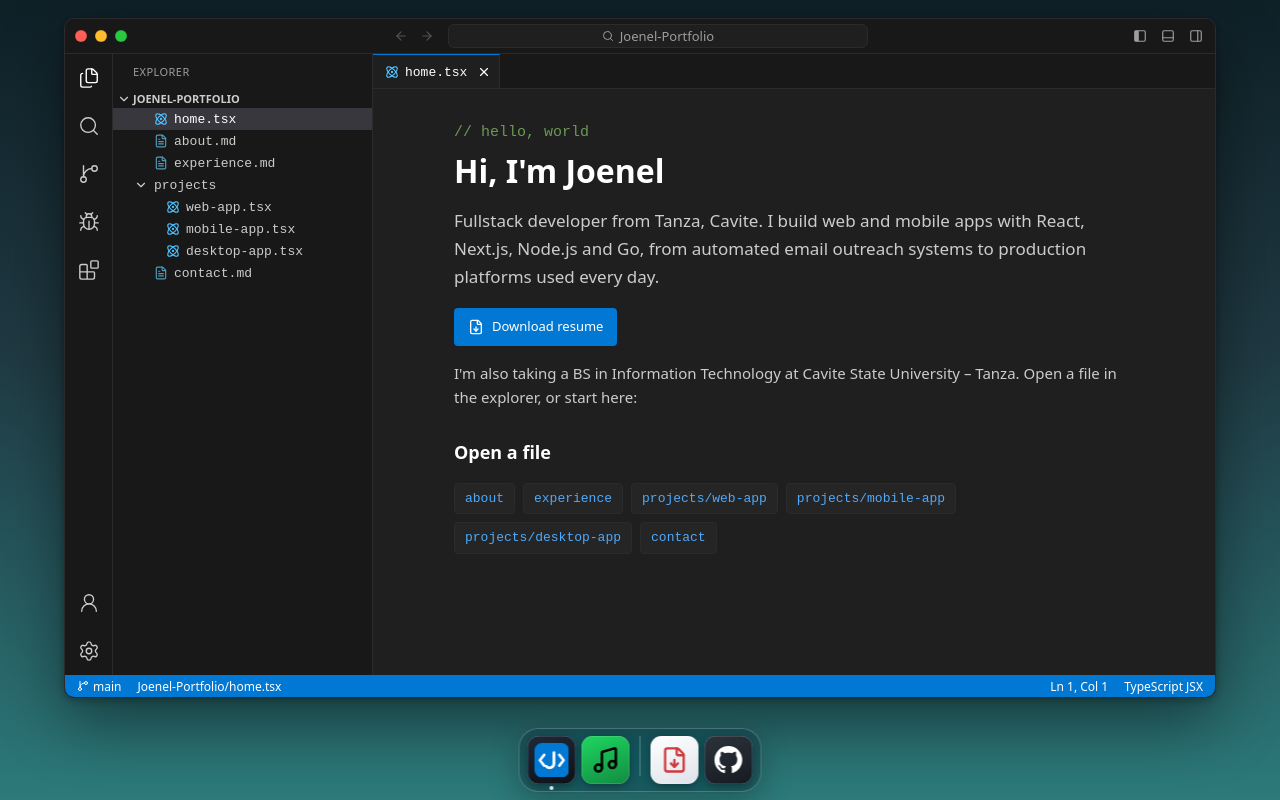
Test: EditorWindow (desktop) › clicking a file opens it in a tab and main area
This screenshot has width=1280, height=800.
Step 1. Click the list item "about.md" → (195,141), box [154,134,236,148]
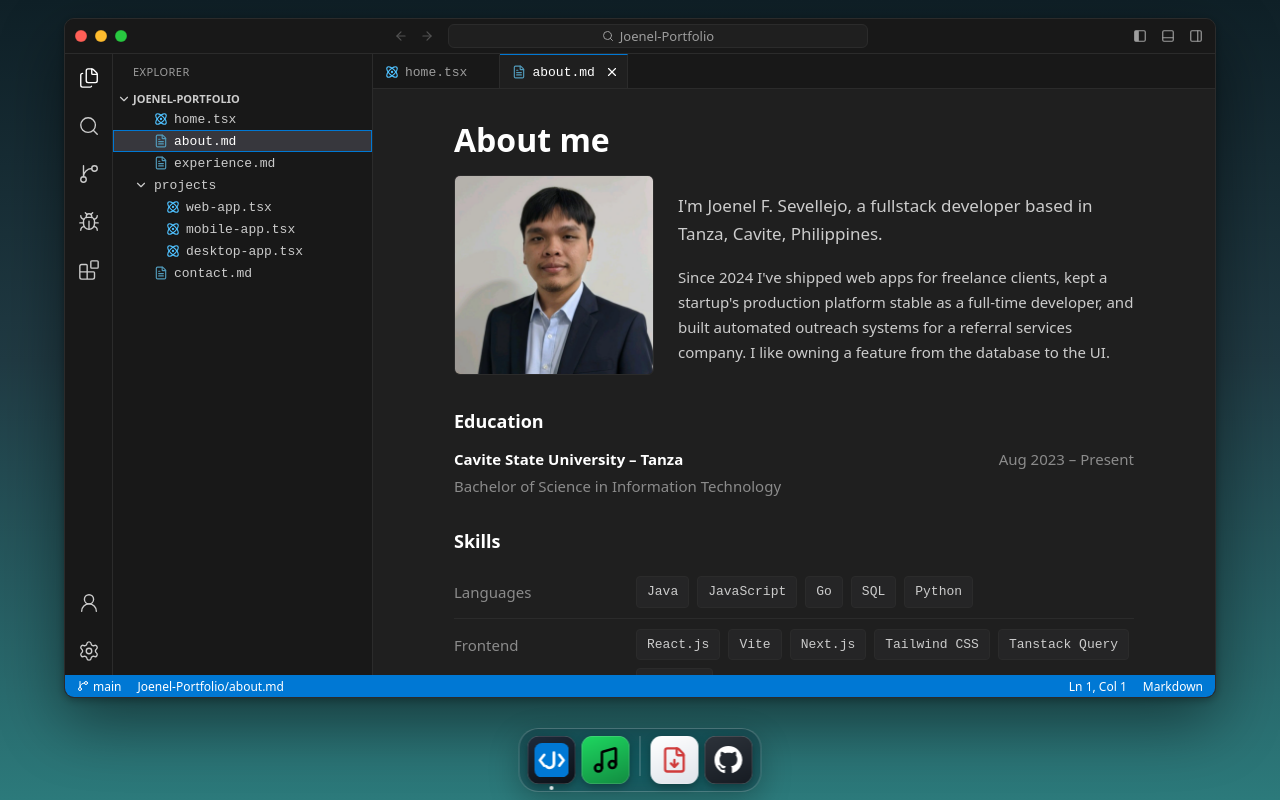
Expected: the heading "About me" is shown, [454,118,610,161]
